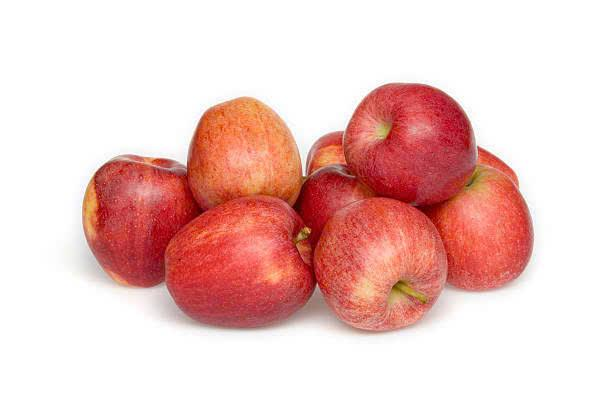apple: (165, 191, 313, 336), (312, 194, 450, 336), (338, 75, 479, 196), (183, 92, 309, 210), (75, 147, 178, 287), (431, 168, 537, 289)
